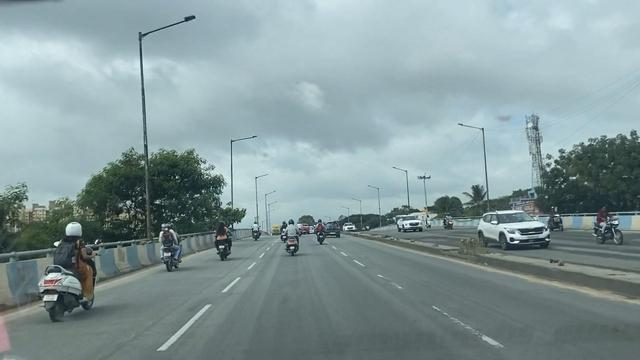LMV: (41, 225, 90, 325), (159, 224, 183, 274), (216, 213, 235, 264), (284, 219, 300, 256), (326, 217, 339, 245), (252, 217, 263, 244), (317, 220, 325, 241)
